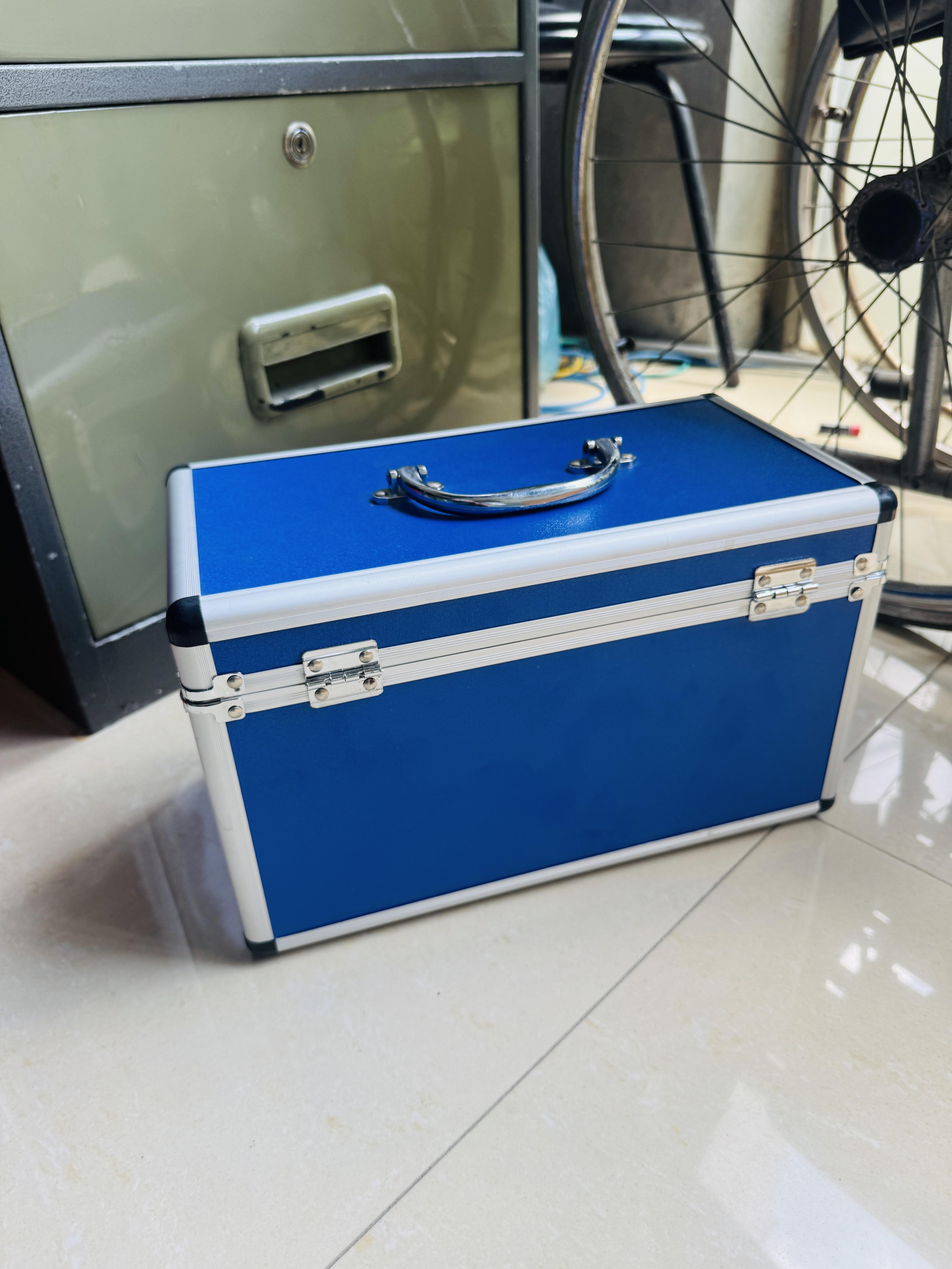FirstAidBox: (132, 366, 917, 981)
